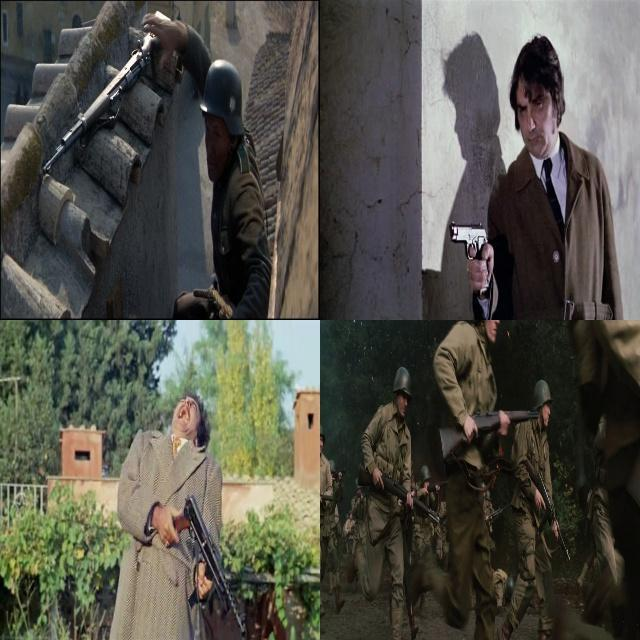gun-knife-thesis - v11 Yolov5 augmented: (52, 26, 178, 181), (158, 482, 251, 639), (435, 394, 542, 455), (353, 459, 439, 530), (522, 457, 574, 565), (452, 223, 488, 292)
